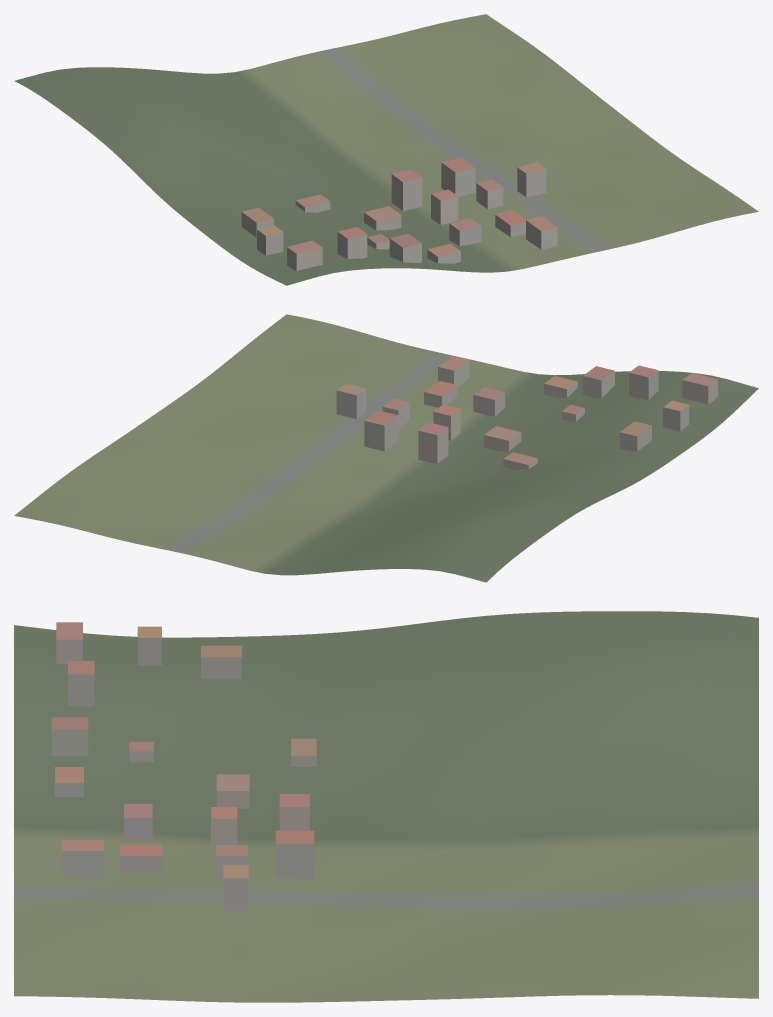
3 renders of one model, top to bottom at view 1: azimuth 30°, elevation 25°; view 2: azimuth 150°, elevation 25°; view 3: azimuth 270°, elevation 25°, orthographic. The views are drawn at different scales.
Bounding box in the file's own units: 300 × 39.04 × 300.
